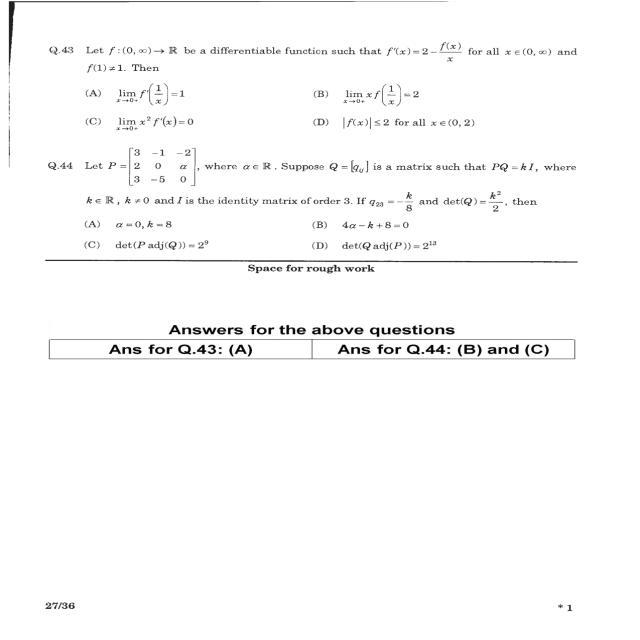Answer_Block: (16, 80, 617, 138), (16, 215, 617, 262)
Description: (16, 300, 617, 380)
Question_Answer_Block: (16, 141, 617, 262), (16, 22, 617, 139)
Question_Block: (16, 142, 617, 214), (16, 22, 617, 78)
Question_Paper_Area: (16, 22, 617, 538)
